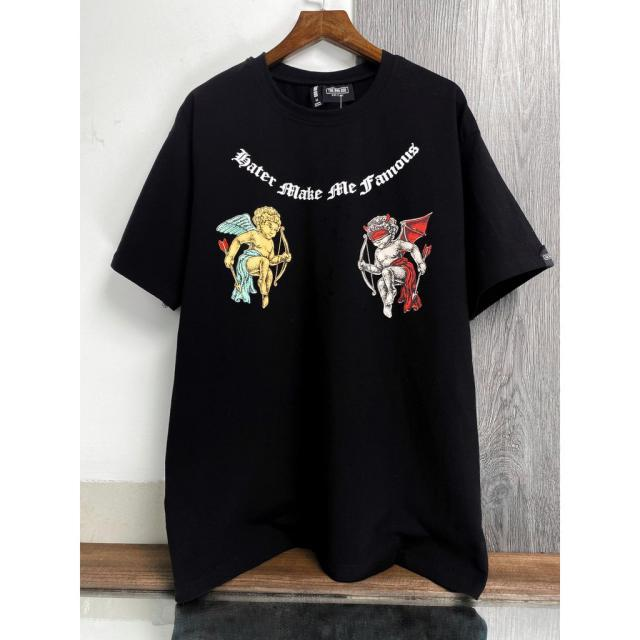Shirt: (108, 46, 558, 610)
